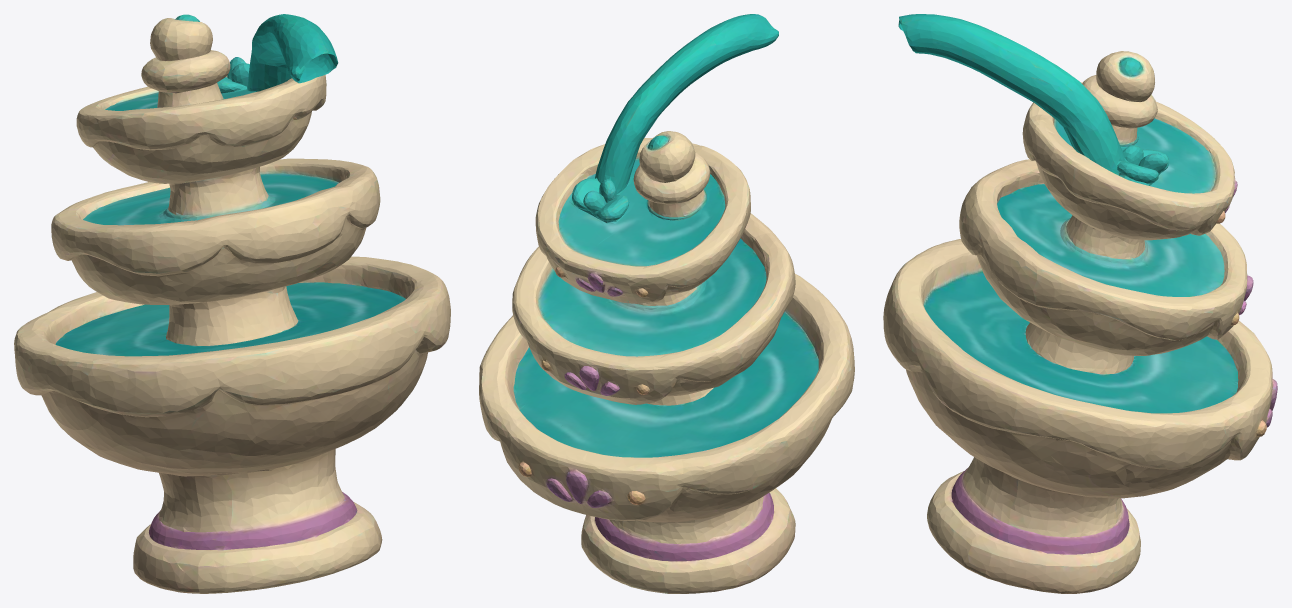
The model's file is item_fountain.glb.
3 renders of one model, left to right at view 1: azimuth 30°, elevation 25°; view 2: azimuth 150°, elevation 25°; view 3: azimuth 270°, elevation 25°, orthographic. The views are drawn at different scales.
Parts seen in each view (by area): view 1: geometry_0; view 2: geometry_0; view 3: geometry_0.
Part boxes in pixels (x1,y1,x2,y2): geometry_0: (14,14,450,593); geometry_0: (479,14,854,593); geometry_0: (883,14,1277,593).
Bounding box in the file's own units: 0.6303 × 0.9354 × 0.6162.
Materials: 1 (1 with a texture image).
